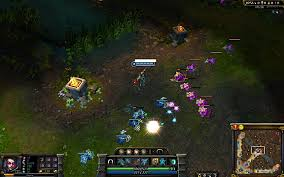bar: (129, 59, 158, 68)
